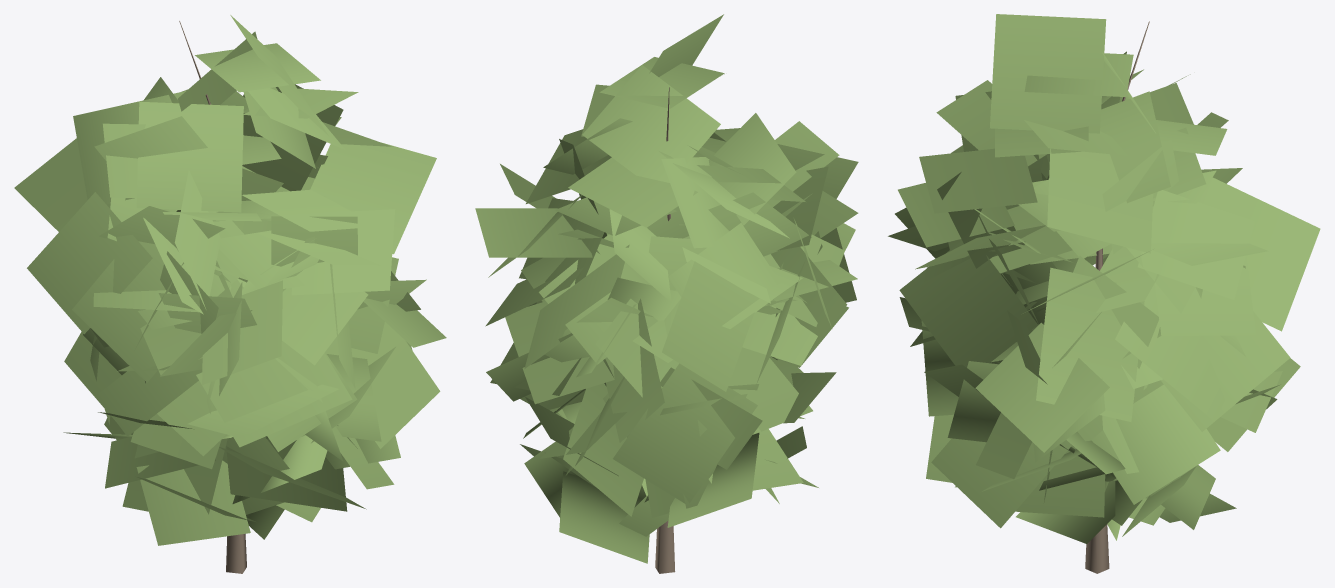
Rendered from Maple_11_young_lod2.glb.
3 views of the same model, side by side, from view 1: azimuth 30°, elevation 25°; view 2: azimuth 150°, elevation 25°; view 3: azimuth 270°, elevation 25° (orthographic). The views are drawn at different scales.
Visible parts, largest first — view 1: Maple_11_young_lod2; view 2: Maple_11_young_lod2; view 3: Maple_11_young_lod2.
Part boxes in pixels (x1,y1,x2,y2): Maple_11_young_lod2: (14, 15, 446, 573); Maple_11_young_lod2: (475, 14, 858, 573); Maple_11_young_lod2: (888, 14, 1320, 573).
Bounding box in the file's own units: 7.72 × 10.82 × 7.73.
